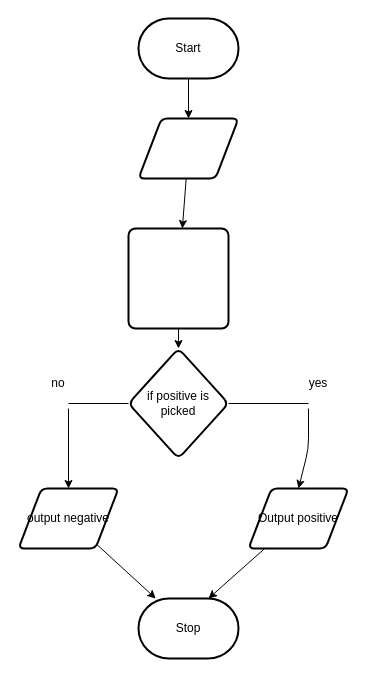
Some shapes in this 366 by 676 pixel diagram are drawn without their labels. Here are the shapes that lost their labels. From the top down, the centre of each, then its label:
point (188, 148): pick positive or negative
point (178, 278): creates a random number from 1-6 and -1 - -6
